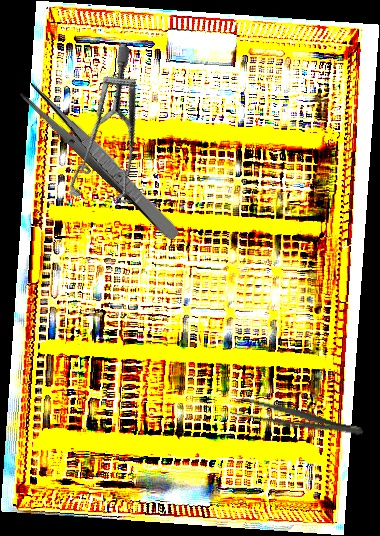Dressing Forceps: (17, 80, 186, 244), (229, 395, 365, 443)
Speculum: (21, 41, 207, 228)
